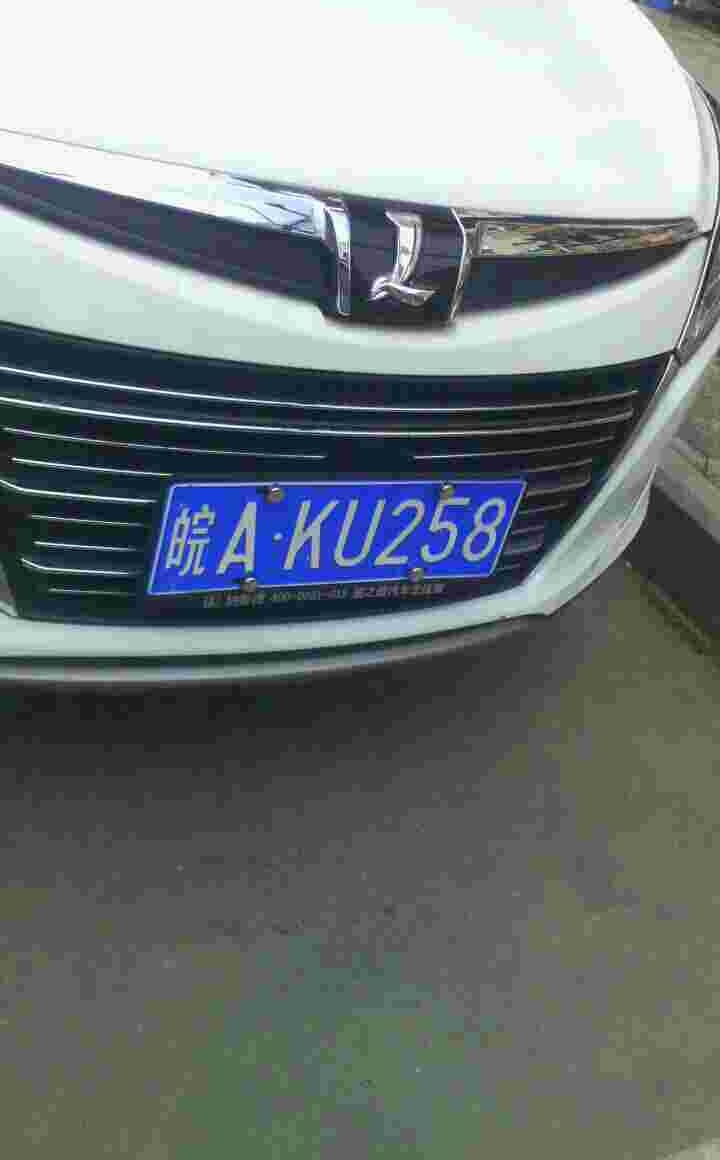license_plate: (166, 467, 515, 606)
